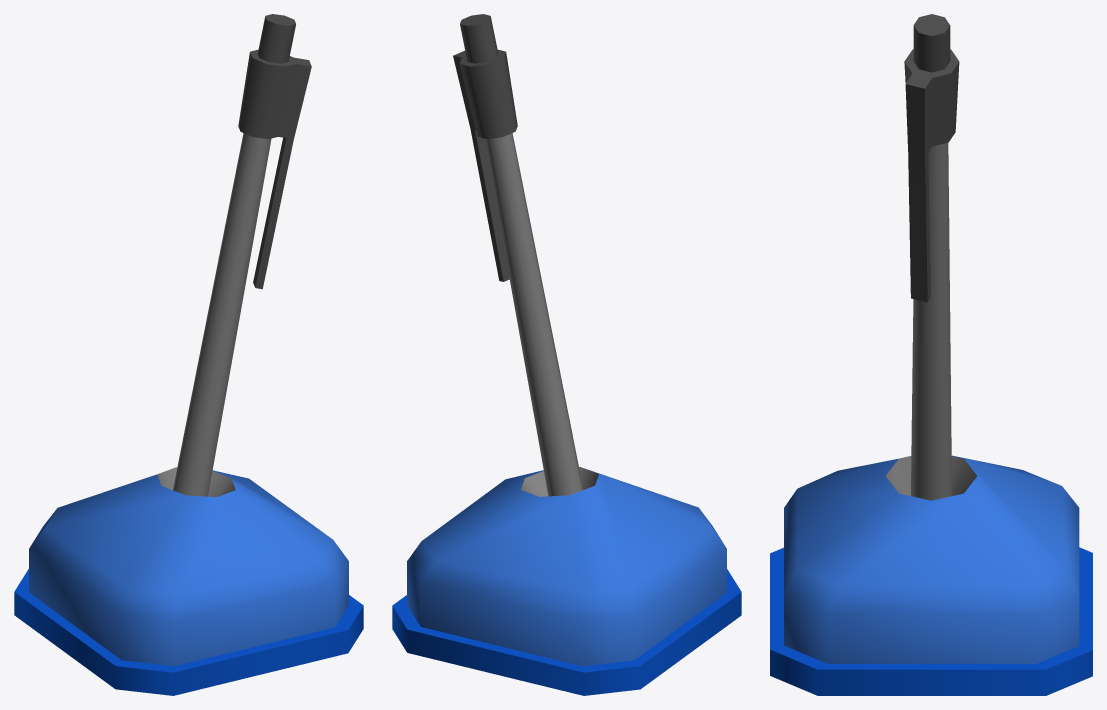
Rendered from Lapiz.fbx.
3 views of the same model, side by side, from view 1: azimuth 30°, elevation 25°; view 2: azimuth 150°, elevation 25°; view 3: azimuth 270°, elevation 25° (orthographic). The views are drawn at different scales.
Visible parts, largest first — view 1: Lapiz; view 2: Lapiz; view 3: Lapiz.
Boxes of the visible parts, bbox=[...] form: Lapiz: bbox=[14, 14, 363, 695]; Lapiz: bbox=[392, 14, 741, 695]; Lapiz: bbox=[770, 14, 1092, 695].
Bounding box in the file's own units: 12.75 × 28.62 × 12.75.
